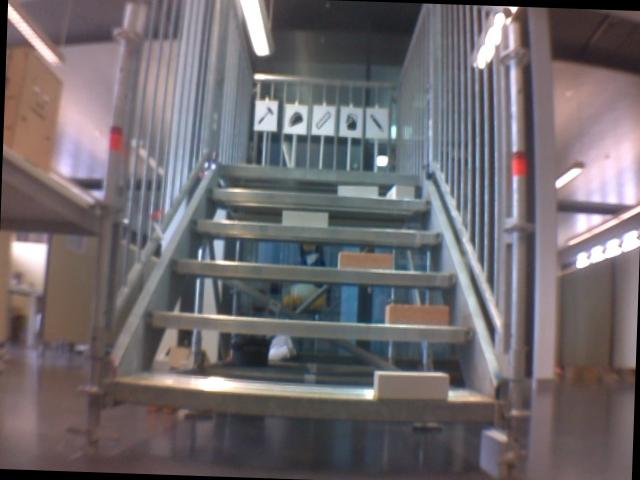brick: (375, 370, 449, 401), (386, 304, 448, 325), (338, 251, 392, 271), (281, 210, 326, 227), (338, 185, 376, 197), (388, 185, 413, 200)
bucket: (341, 109, 360, 132)
edge: (115, 380, 490, 421), (146, 310, 475, 340), (171, 258, 457, 287), (191, 219, 443, 242), (208, 188, 430, 210), (217, 164, 421, 185)
hammer: (254, 102, 274, 127)
pencil: (367, 112, 387, 134)
ruler: (314, 108, 331, 130)
steps: (110, 156, 504, 424)
taco: (285, 108, 304, 127)
